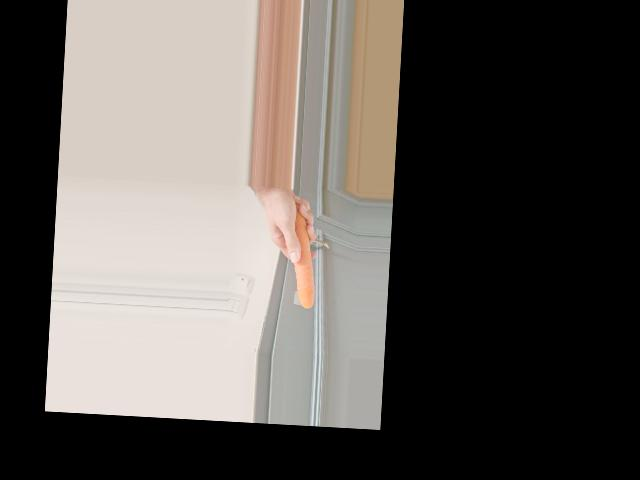carrot: (285, 202, 318, 308)
